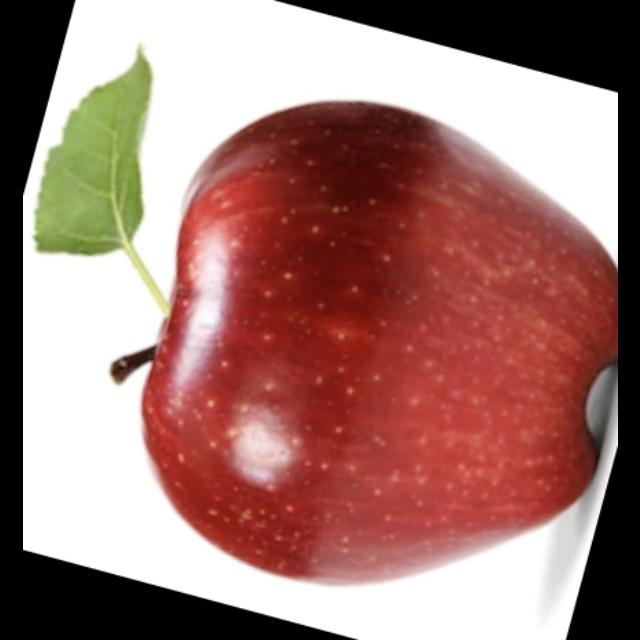Apel Segar: (98, 7, 618, 576)
